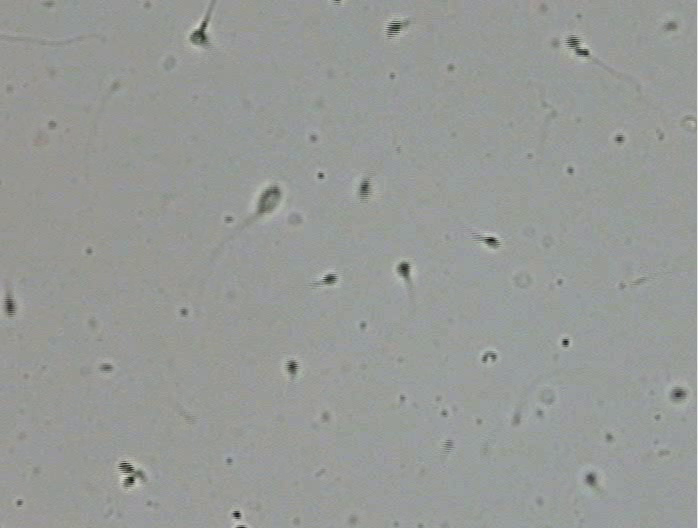S: (256, 184, 282, 214), (565, 34, 590, 57), (3, 295, 17, 317), (386, 20, 402, 39), (190, 30, 208, 45), (284, 358, 299, 375), (670, 387, 687, 402), (359, 180, 371, 201), (483, 236, 501, 249), (322, 273, 339, 286), (117, 461, 135, 473), (397, 262, 411, 277), (122, 476, 135, 488), (584, 473, 596, 486)
